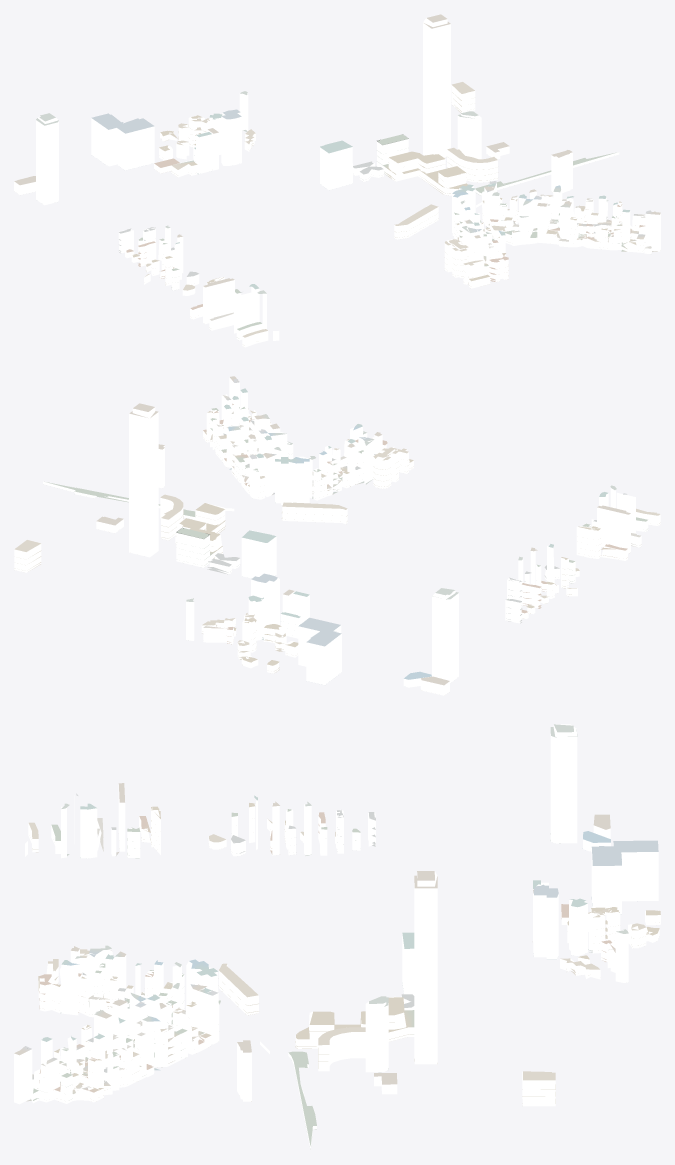
The model's file is buildings-4_0-coarse.glb.
3 views of the same model, one above another, from view 1: azimuth 30°, elevation 25°; view 2: azimuth 150°, elevation 25°; view 3: azimuth 270°, elevation 25° (orthographic). The views are drawn at different scales.
Parts seen in each view (by area): view 1: block_4_0_office, block_4_0_residential, block_4_0_roof; view 2: block_4_0_office, block_4_0_residential, block_4_0_roof; view 3: block_4_0_office, block_4_0_residential, block_4_0_roof.
Boxes of the visible parts, bbox=[...] form: block_4_0_office: bbox=[14, 18, 660, 333]; block_4_0_residential: bbox=[118, 85, 651, 347]; block_4_0_roof: bbox=[14, 14, 660, 345]; block_4_0_office: bbox=[96, 377, 635, 695]; block_4_0_residential: bbox=[14, 394, 660, 673]; block_4_0_roof: bbox=[14, 376, 660, 685]; block_4_0_office: bbox=[14, 724, 658, 1104]; block_4_0_residential: bbox=[25, 803, 660, 1149]; block_4_0_roof: bbox=[14, 724, 660, 1149].
Size of the model in its own units: 760 by 204 by 647.
